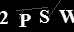2: (1, 9, 9, 24)
P: (17, 13, 31, 28)
S: (38, 9, 50, 24)
W: (58, 9, 74, 24)
